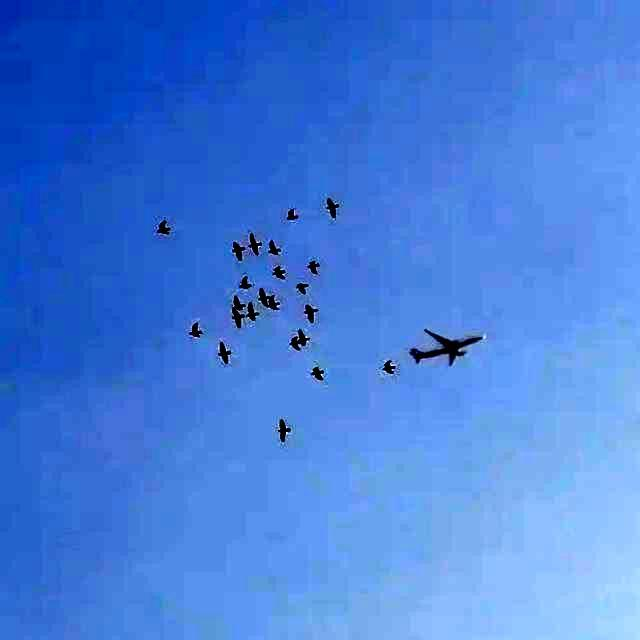bird: (212, 335, 238, 371), (268, 418, 298, 448), (179, 315, 212, 342), (298, 302, 324, 326), (222, 237, 246, 260), (265, 236, 289, 258), (322, 194, 342, 220), (304, 255, 326, 278), (152, 215, 172, 240), (247, 228, 264, 257), (290, 278, 312, 300), (379, 358, 399, 381), (308, 365, 330, 383), (235, 272, 254, 292), (298, 328, 316, 349), (225, 310, 246, 328), (281, 333, 300, 352), (268, 264, 288, 282), (244, 302, 259, 326), (258, 285, 270, 309), (285, 207, 298, 226), (268, 294, 280, 314), (231, 297, 244, 314)
